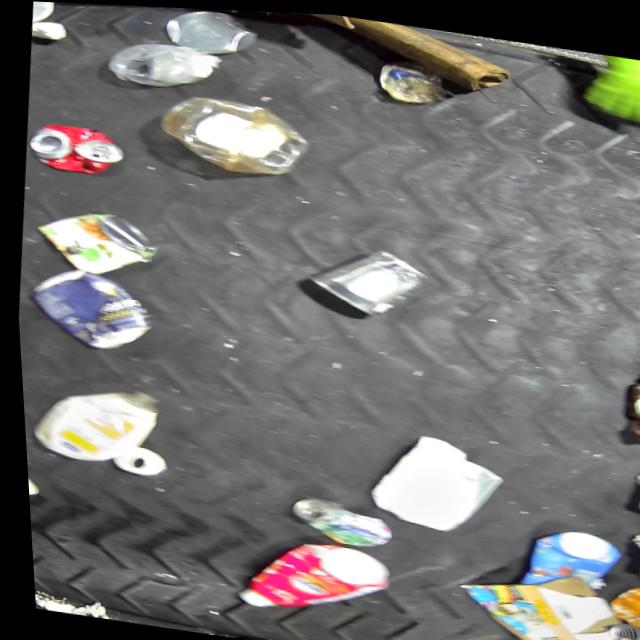can: (18, 262, 160, 359), (297, 234, 438, 324), (24, 202, 160, 283), (279, 490, 388, 549), (24, 119, 127, 180), (161, 6, 259, 61), (21, 443, 43, 502)
non_white_jug: (220, 528, 389, 624)
